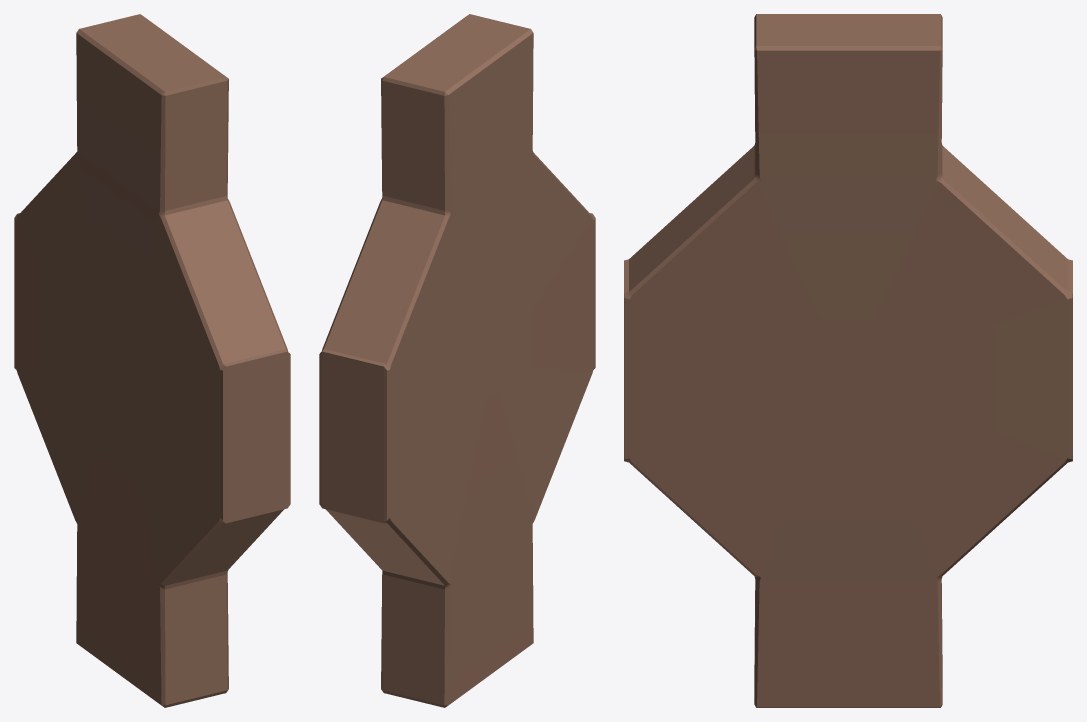
The model's file is Pipe_Diamond_Cut_04.fbx.
3 views of the same model, side by side, from view 1: azimuth 30°, elevation 25°; view 2: azimuth 150°, elevation 25°; view 3: azimuth 270°, elevation 25° (orthographic). The views are drawn at different scales.
Parts seen in each view (by area): view 1: Pipe_Diamond_Cut_04; view 2: Pipe_Diamond_Cut_04; view 3: Pipe_Diamond_Cut_04.
Boxes of the visible parts, bbox=[...] form: Pipe_Diamond_Cut_04: bbox=[14, 14, 290, 707]; Pipe_Diamond_Cut_04: bbox=[319, 14, 595, 707]; Pipe_Diamond_Cut_04: bbox=[624, 14, 1072, 707].
Size of the model in its own units: 0.9889 by 8.5 by 5.22.
